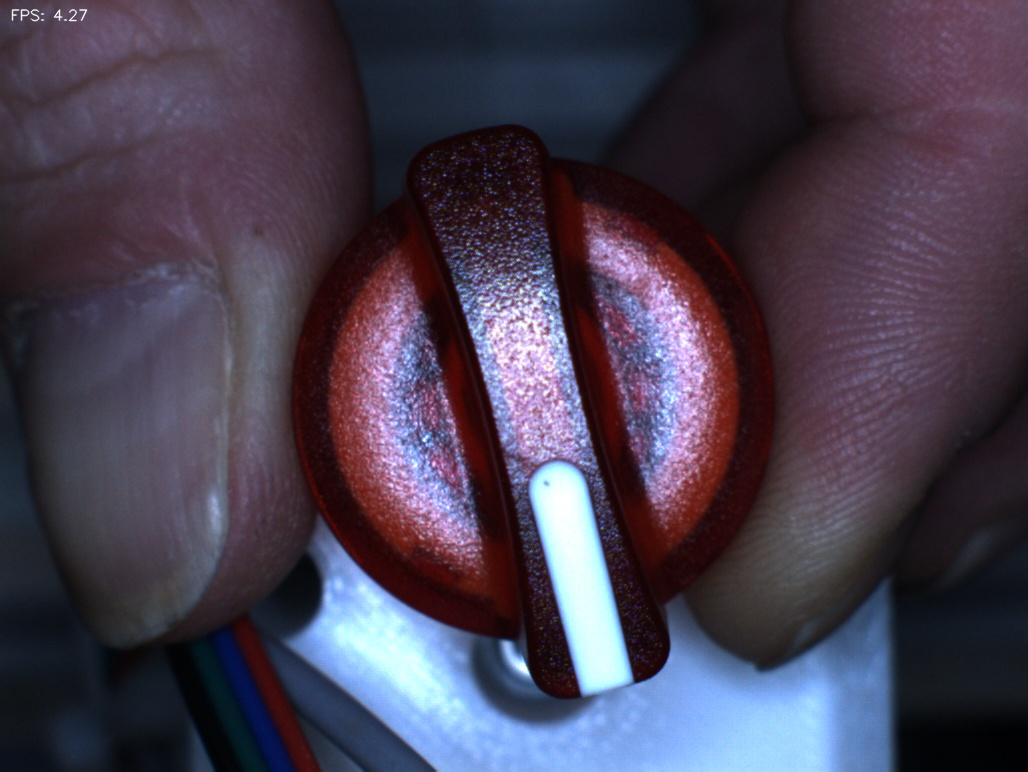PointNoir: (505, 449, 579, 515)
